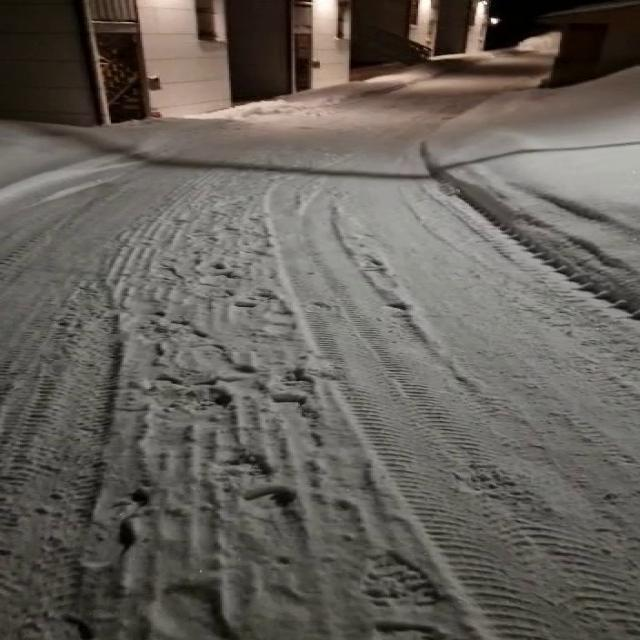path: (0, 50, 638, 640)
